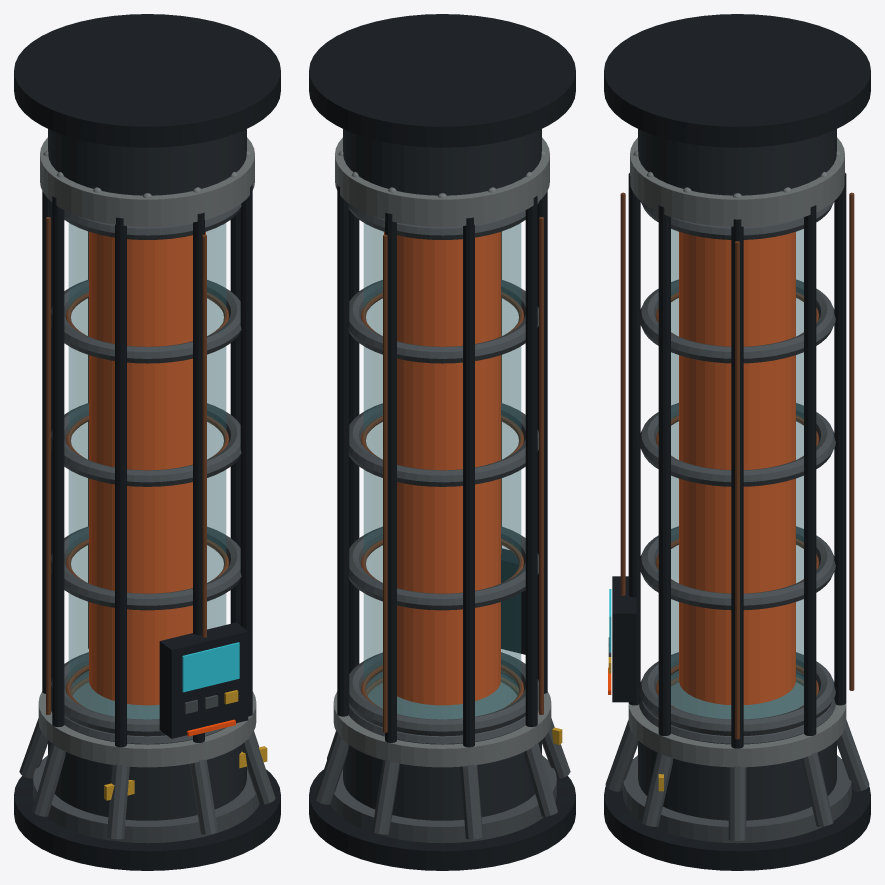
File: Reactor_01.obj
The picture shows the model from 3 angles, left to right: view 1: azimuth 30°, elevation 25°; view 2: azimuth 150°, elevation 25°; view 3: azimuth 270°, elevation 25°; orthographic projection.
Parts seen in each view (by area): view 1: Glass_Chamber, Plasma_Inner_Glow, Ceiling_Mount, Upper_Pedestal, Foundation_Base, Lower_Pedestal, Upper_Cap, Vertical_Support_04, Lower_Socket, Vertical_Support_03, Control_Mount, Vertical_Support_01 (+19 smaller); view 2: Glass_Chamber, Plasma_Inner_Glow, Ceiling_Mount, Upper_Pedestal, Foundation_Base, Lower_Pedestal, Lower_Socket, Upper_Cap, Vertical_Support_04, Vertical_Support_07, Vertical_Support_05, Vertical_Support_06 (+19 smaller); view 3: Glass_Chamber, Plasma_Inner_Glow, Ceiling_Mount, Upper_Pedestal, Foundation_Base, Lower_Pedestal, Lower_Socket, Upper_Cap, Vertical_Support_01, Vertical_Support_07, Vertical_Support_06, Vertical_Support_02 (+17 smaller).
Boxes of the visible parts, box(x1,y1,x2,y2) form: Glass_Chamber: box(69, 223, 225, 719); Plasma_Inner_Glow: box(89, 232, 205, 705); Ceiling_Mount: box(14, 14, 280, 147); Upper_Pedestal: box(48, 129, 246, 195); Foundation_Base: box(14, 769, 280, 870); Lower_Pedestal: box(48, 740, 246, 820); Upper_Cap: box(40, 137, 254, 226); Vertical_Support_04: box(52, 196, 64, 726); Lower_Socket: box(38, 682, 256, 767); Vertical_Support_03: box(115, 217, 126, 747); Control_Mount: box(159, 622, 248, 738); Vertical_Support_01: box(240, 184, 252, 716); Glass_Chamber: box(364, 223, 520, 719); Plasma_Inner_Glow: box(384, 232, 500, 705); Ceiling_Mount: box(309, 14, 575, 147); Upper_Pedestal: box(343, 129, 541, 195); Foundation_Base: box(309, 769, 575, 870); Lower_Pedestal: box(343, 740, 541, 820); Lower_Socket: box(333, 682, 551, 767); Upper_Cap: box(335, 137, 549, 226); Vertical_Support_04: box(525, 196, 537, 726); Vertical_Support_07: box(337, 184, 349, 716); Vertical_Support_05: box(463, 217, 474, 747); Vertical_Support_06: box(385, 212, 396, 742); Glass_Chamber: box(671, 229, 803, 718); Plasma_Inner_Glow: box(679, 232, 795, 704); Ceiling_Mount: box(604, 14, 870, 147); Upper_Pedestal: box(638, 129, 836, 195); Foundation_Base: box(604, 786, 870, 870); Lower_Pedestal: box(638, 740, 836, 820); Lower_Socket: box(628, 682, 846, 767); Upper_Cap: box(630, 137, 844, 226); Vertical_Support_01: box(658, 205, 670, 735); Vertical_Support_07: box(804, 205, 816, 735); Vertical_Support_06: box(834, 173, 846, 705); Vertical_Support_02: box(628, 173, 640, 705).
Size of the model in its own units: 1.96 by 6.03 by 1.96.
